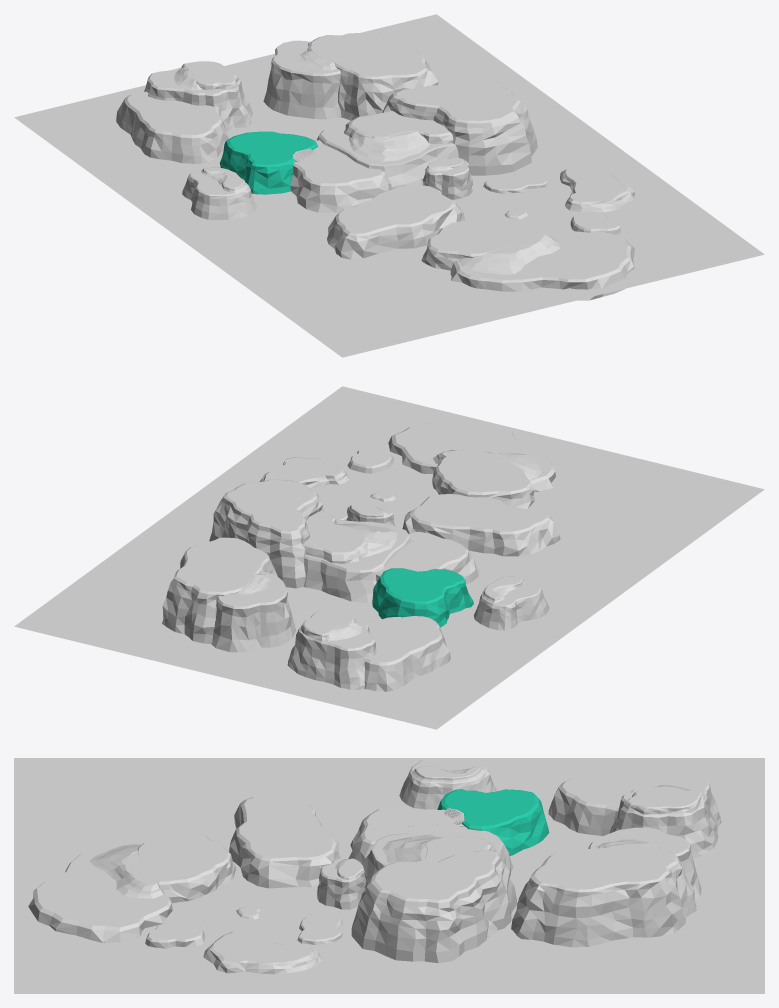
Rendered from main.glb.
3 renders of one model, top to bottom at view 1: azimuth 30°, elevation 25°; view 2: azimuth 150°, elevation 25°; view 3: azimuth 270°, elevation 25°, orthographic. The views are drawn at different scales.
Parts seen in each view (by area): view 1: Water, Love3, PreSorrow, Sorrow, PreLove, Tutorial, SorrowArena, Village2, PreLove2, Village1, Tutorial2, Sorrow2 (+6 smaller); view 2: Water, Love3, PreSorrow, PreLove, Sorrow, Tutorial, Tutorial2, PreLove2, Village1, Sorrow2, Love1, SorrowArena (+6 smaller); view 3: Water, PreLove, Love3, PreSorrow, Sorrow, SorrowArena, Tutorial2, Sorrow2, Tutorial, Village1, Spawn, Village2 (+6 smaller).
Boxes of the visible parts, left/top/right/bottom form: Water: left=14, top=14, right=764, bottom=357; Love3: left=382, top=85, right=537, bottom=175; PreSorrow: left=327, top=185, right=464, bottom=259; Sorrow: left=450, top=230, right=634, bottom=300; PreLove: left=307, top=32, right=438, bottom=120; Tutorial: left=116, top=91, right=228, bottom=163; SorrowArena: left=483, top=166, right=634, bottom=234; Village2: left=290, top=140, right=391, bottom=212; PreLove2: left=263, top=40, right=341, bottom=119; Village1: left=219, top=131, right=317, bottom=194; Tutorial2: left=144, top=61, right=252, bottom=131; Sorrow2: left=421, top=220, right=536, bottom=270; Water: left=14, top=386, right=764, bottom=729; Love3: left=209, top=479, right=324, bottom=588; PreSorrow: left=402, top=494, right=560, bottom=556; PreLove: left=162, top=537, right=277, bottom=643; Sorrow: left=388, top=419, right=555, bottom=492; Tutorial: left=364, top=616, right=450, bottom=691; Tutorial2: left=287, top=607, right=376, bottom=689; PreLove2: left=211, top=571, right=295, bottom=652; Village1: left=372, top=568, right=473, bottom=627; Sorrow2: left=432, top=451, right=534, bottom=509; Love1: left=303, top=518, right=411, bottom=602; SorrowArena: left=260, top=445, right=395, bottom=520; Water: left=14, top=758, right=764, bottom=993; PreLove: left=511, top=844, right=696, bottom=947; Love3: left=351, top=849, right=517, bottom=963; PreSorrow: left=229, top=797, right=340, bottom=888; Sorrow: left=28, top=841, right=172, bottom=942; SorrowArena: left=145, top=906, right=342, bottom=974; Tutorial2: left=609, top=775, right=721, bottom=858; Sorrow2: left=131, top=830, right=235, bottom=903; Tutorial: left=548, top=769, right=692, bottom=835; Village1: left=437, top=789, right=549, bottom=855; Spawn: left=399, top=758, right=496, bottom=809; Village2: left=348, top=806, right=485, bottom=863.
Bounding box in the file's own units: 258 × 32.91 × 347.
1 material, 1 textured.
